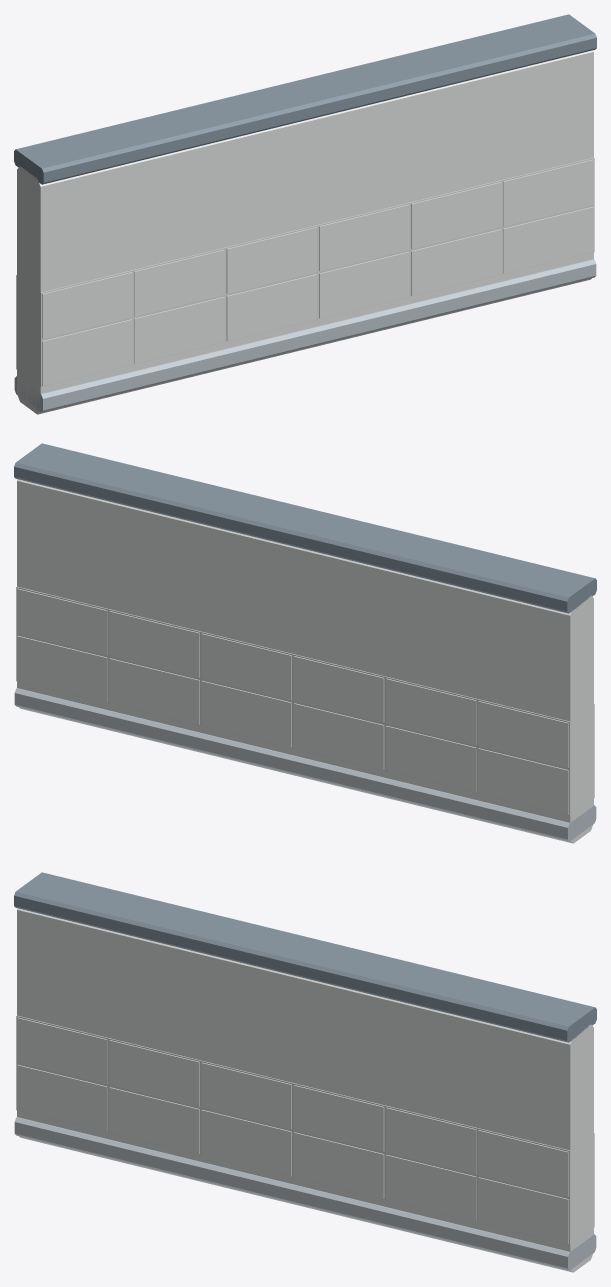
The model's file is wall_restaurant_patisserie.glb.
3 renders of one model, top to bottom at view 1: azimuth 30°, elevation 25°; view 2: azimuth 150°, elevation 25°; view 3: azimuth 330°, elevation 25°, orthographic.
Parts seen in each view (by area): view 1: Part_001, Part_002, Part_003, Part_005, Part_011, Part_023, Part_013, Part_015, Part_019, Part_025, Part_007, Part_021 (+4 smaller); view 2: Part_001, Part_002, Part_003, Part_004, Part_010, Part_022, Part_012, Part_014, Part_018, Part_024, Part_006, Part_020 (+4 smaller); view 3: Part_001, Part_002, Part_003, Part_005, Part_013, Part_025, Part_009, Part_011, Part_023, Part_029, Part_017, Part_019 (+4 smaller).
Boxes of the visible parts, x1,y1,x2,y2 form: Part_001: (17,50,593,414); Part_002: (14,14,596,184); Part_003: (14,259,596,412); Part_005: (40,157,594,387); Part_011: (226,274,317,340); Part_023: (226,227,317,293); Part_013: (319,251,409,318); Part_015: (411,229,501,295); Part_019: (42,272,132,338); Part_025: (319,204,409,271); Part_007: (42,319,132,385); Part_021: (134,249,224,316); Part_001: (17,479,593,843); Part_002: (14,443,596,613); Part_003: (14,688,596,841); Part_004: (16,586,570,816); Part_010: (293,703,384,769); Part_022: (293,656,384,722); Part_012: (201,680,291,747); Part_014: (109,658,199,724); Part_018: (478,701,568,767); Part_024: (201,633,291,700); Part_006: (478,748,568,814); Part_020: (386,678,476,745); Part_001: (17,908,593,1272); Part_002: (14,872,596,1042); Part_003: (14,1117,596,1270); Part_005: (16,1015,570,1245); Part_013: (293,1132,384,1198); Part_025: (293,1085,384,1151); Part_009: (109,1087,199,1153); Part_011: (201,1109,291,1176); Part_023: (201,1062,291,1129); Part_029: (478,1130,568,1196); Part_017: (478,1177,568,1243); Part_019: (17,1017,107,1084).
Size of the model in its own units: 2.7 by 1.16 by 0.25.
